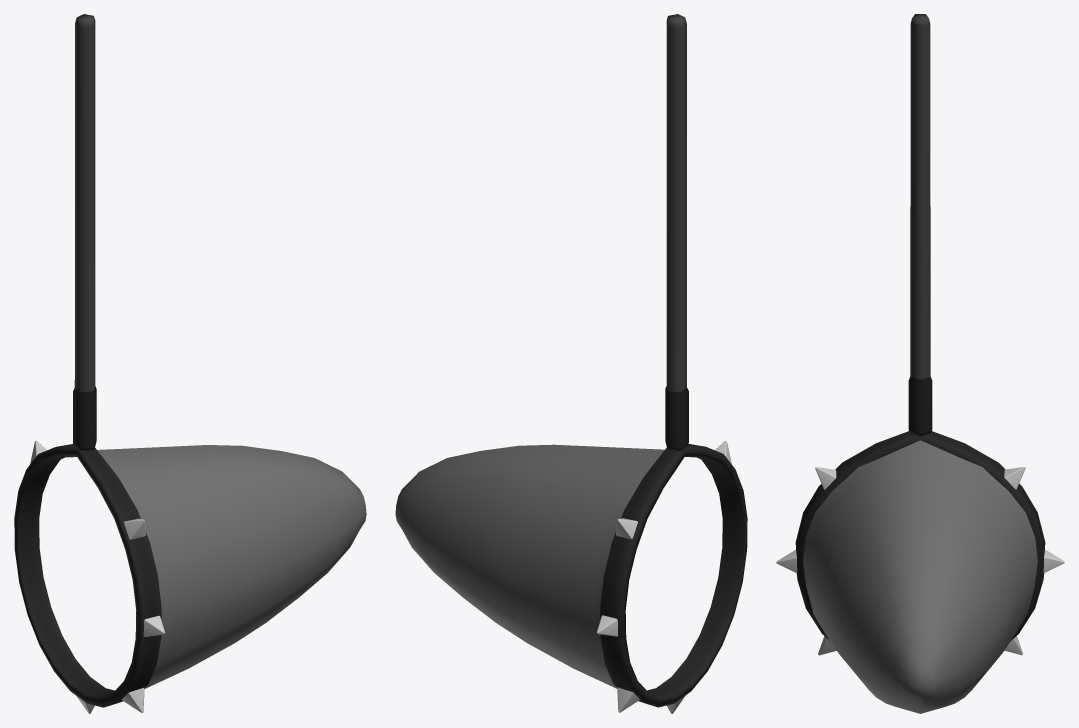
File: ToolNetChy.glb
3 renders of one model, left to right at view 1: azimuth 30°, elevation 25°; view 2: azimuth 150°, elevation 25°; view 3: azimuth 270°, elevation 25°, orthographic. The views are drawn at different scales.
Parts seen in each view (by area): view 1: Net__mTool; view 2: Net__mTool; view 3: Net__mTool.
Part boxes in pixels (x1,y1,x2,y2): Net__mTool: (14, 14, 366, 713); Net__mTool: (395, 14, 747, 713); Net__mTool: (776, 14, 1064, 713).
Size of the model in its own units: 7.15 by 16.65 by 6.46.
Materials: 1 (1 with a texture image).
